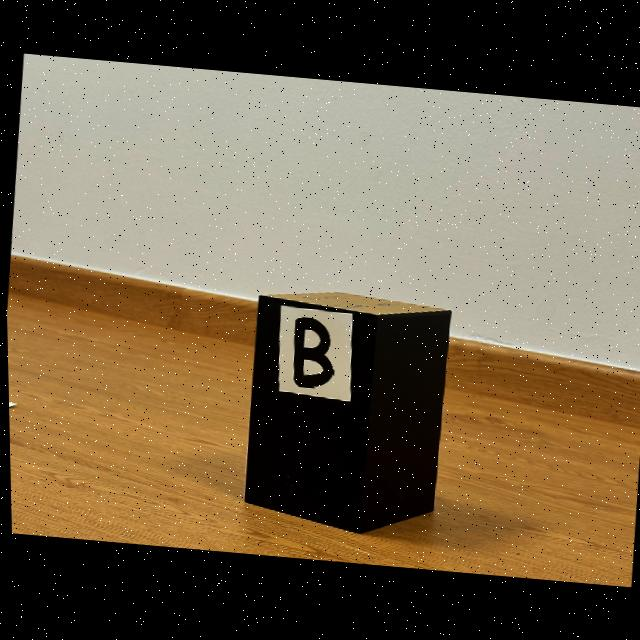B: (292, 318, 331, 387)
